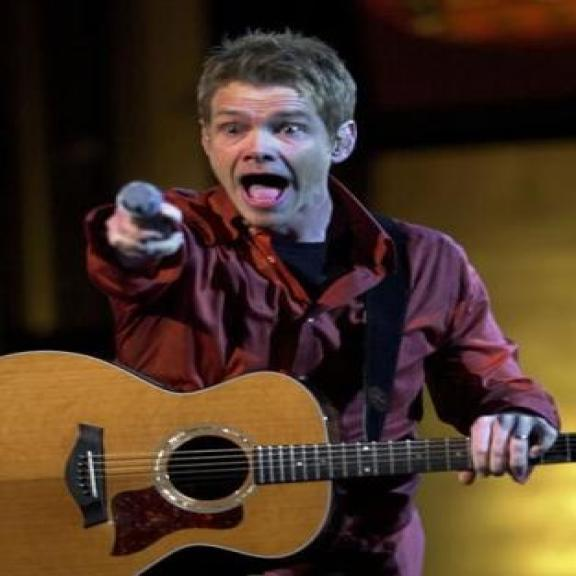face: (194, 74, 362, 232)
